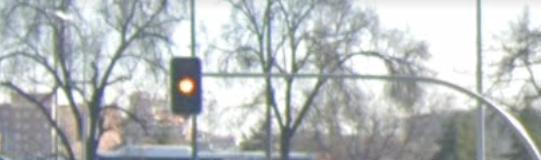yellow_light: (171, 56, 202, 115)
